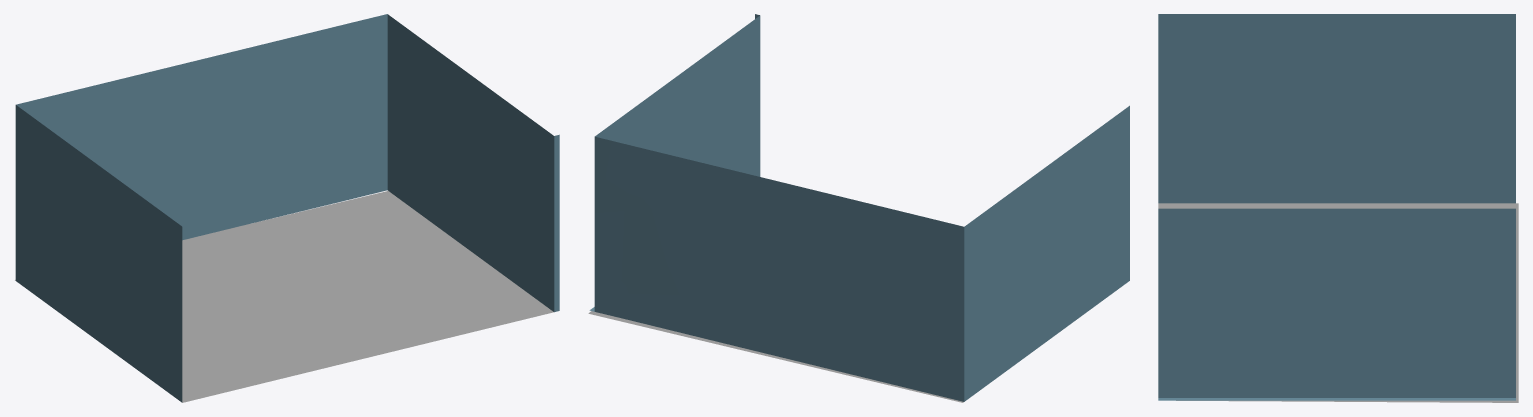
File: walls.fbx
The picture shows the model from 3 angles, left to right: view 1: azimuth 30°, elevation 25°; view 2: azimuth 150°, elevation 25°; view 3: azimuth 270°, elevation 25°; orthographic projection. The views are drawn at different scales.
Visible parts, largest first — view 1: pCube3, pPlane1; view 2: pCube3, pPlane1; view 3: pCube3, pPlane1.
Boxes of the visible parts, box(x1,y1,x2,y2) form: pCube3: box(15, 14, 559, 402); pPlane1: box(15, 191, 553, 402); pCube3: box(589, 14, 1129, 401); pPlane1: box(588, 311, 963, 402); pCube3: box(1158, 14, 1515, 400); pPlane1: box(1158, 203, 1518, 402).
Size of the model in its own units: 706 by 319 by 545.
